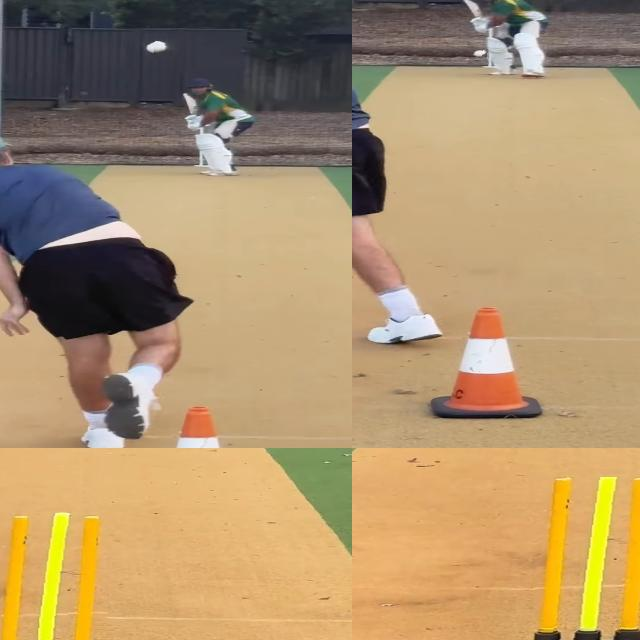Cricket ball: (143, 39, 173, 56), (471, 48, 489, 60)
Stumps: (532, 477, 640, 640), (0, 512, 117, 640)
